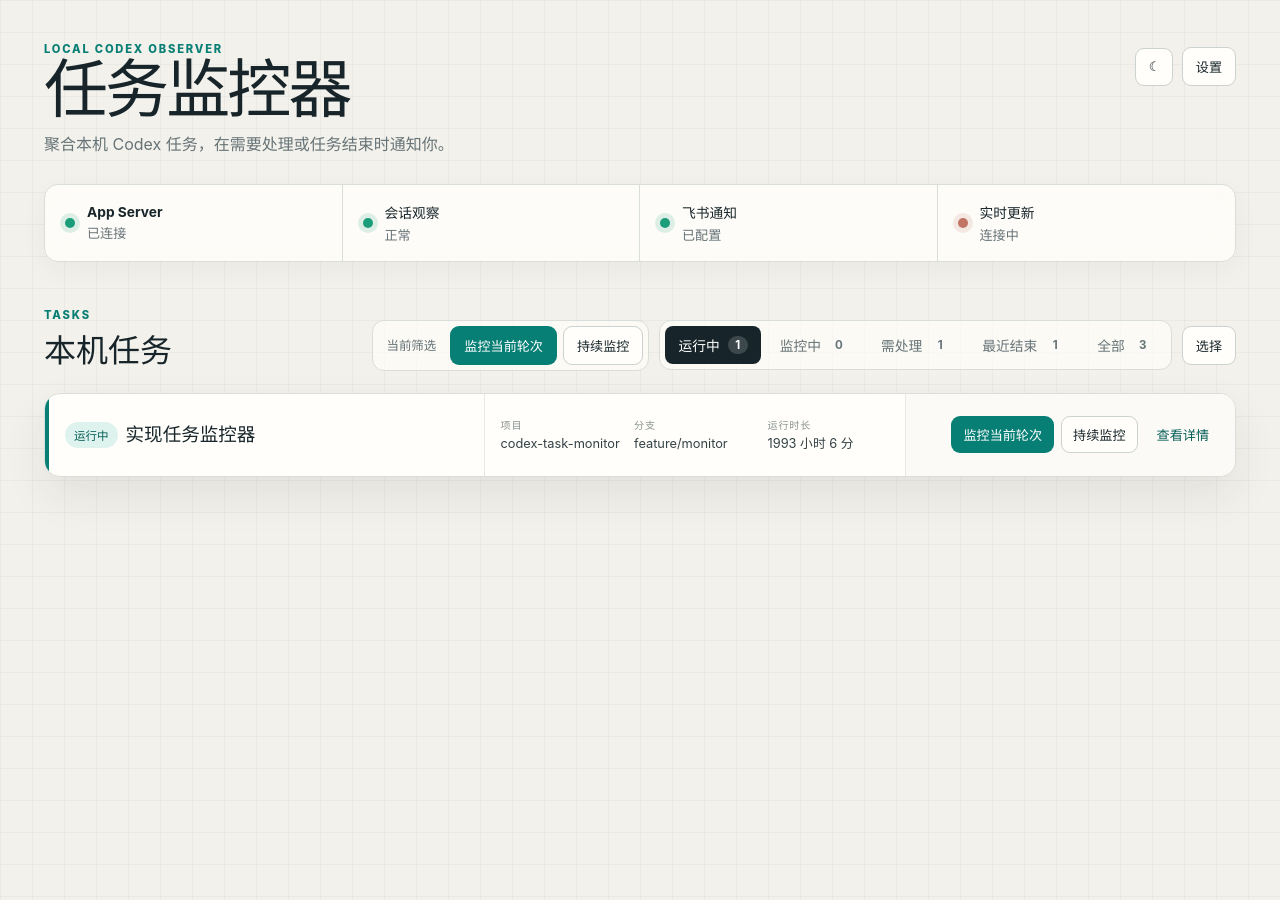
Test: 任务监控主页面 › 进入选择模式会关闭已经打开的右键菜单
Right-click the element with class "task-card": (640, 435) [44, 393, 1236, 477]
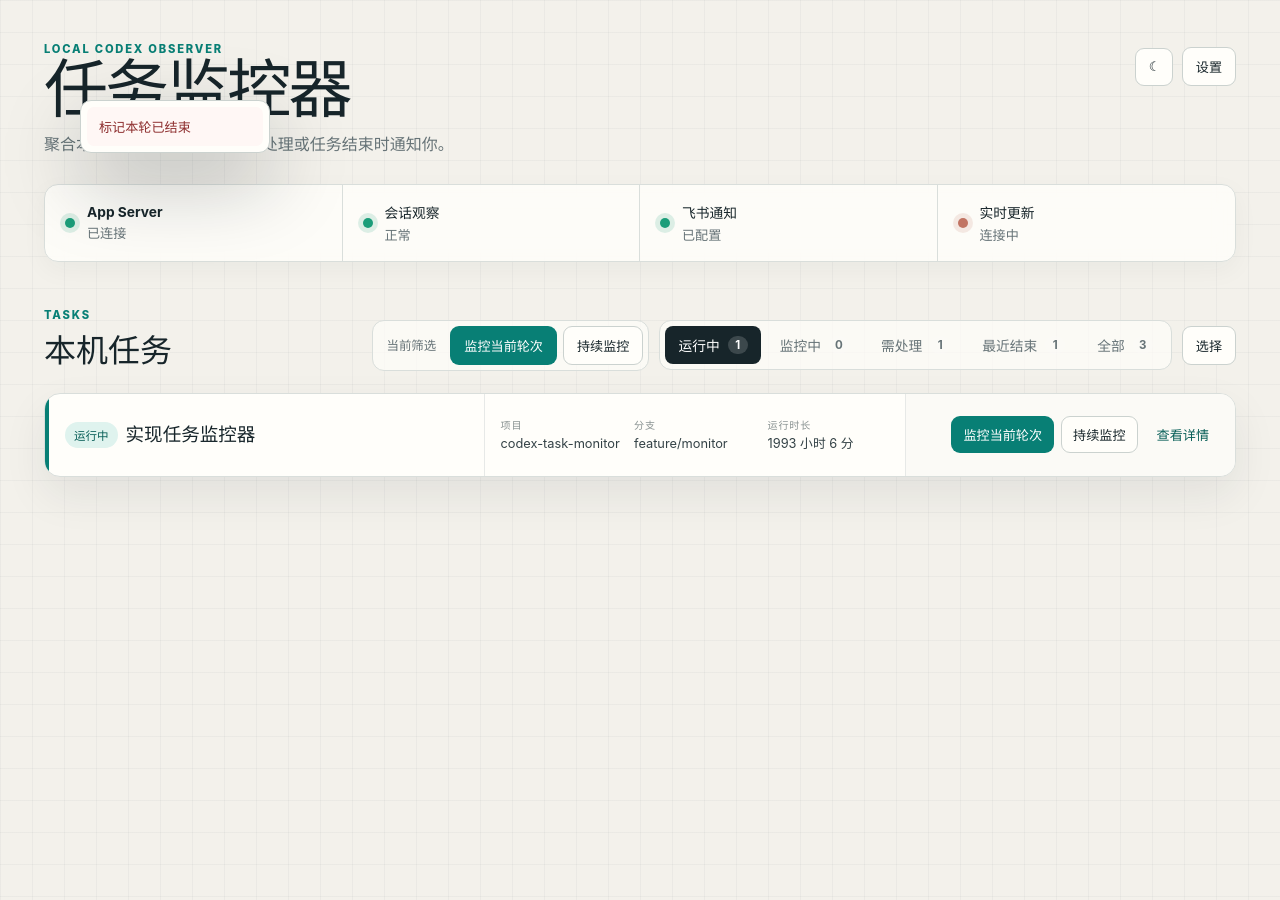
Expected: the menu is shown, [80, 100, 270, 153]
Click the button "选择": (1209, 345) [1182, 326, 1236, 365]
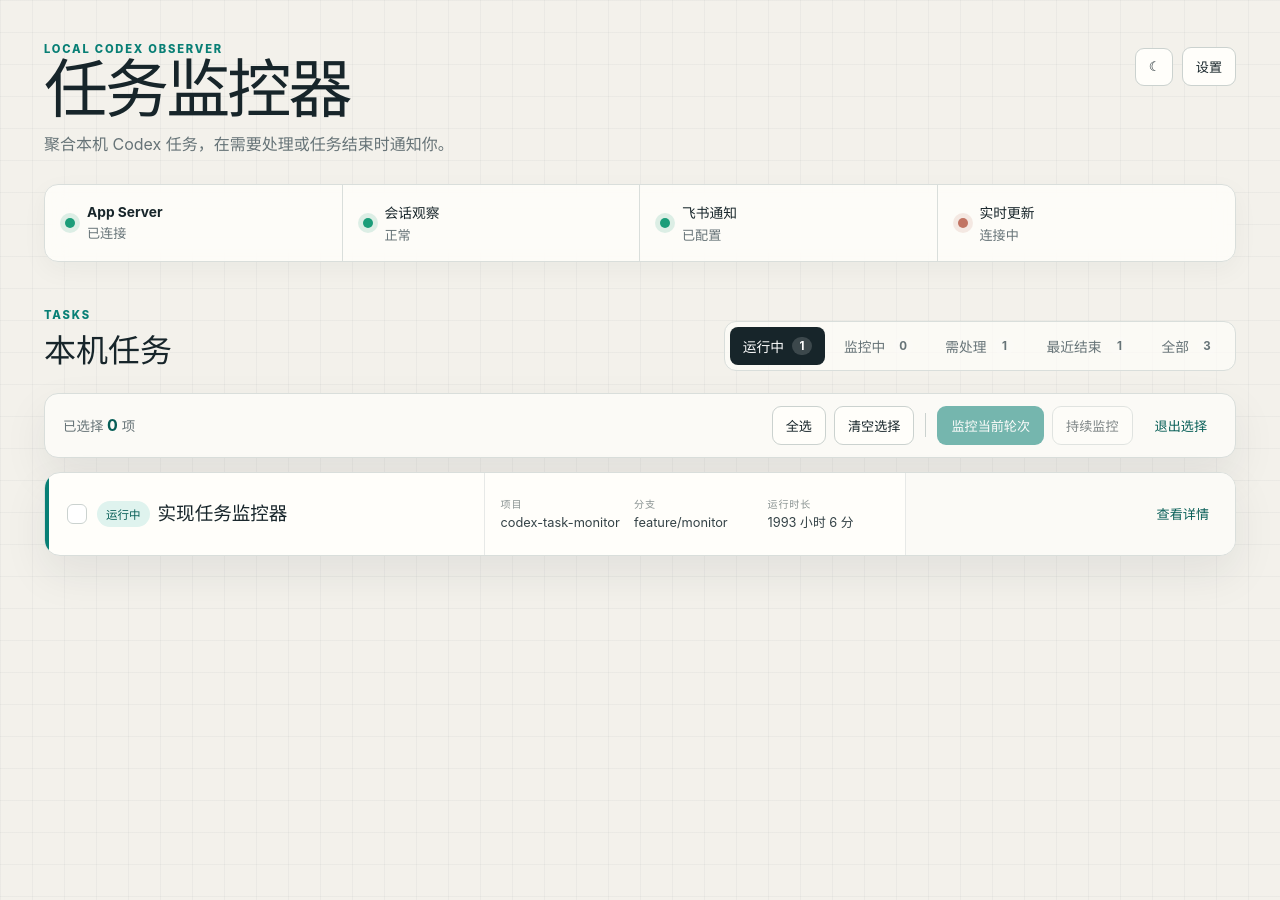
Expected: the menu is gone
